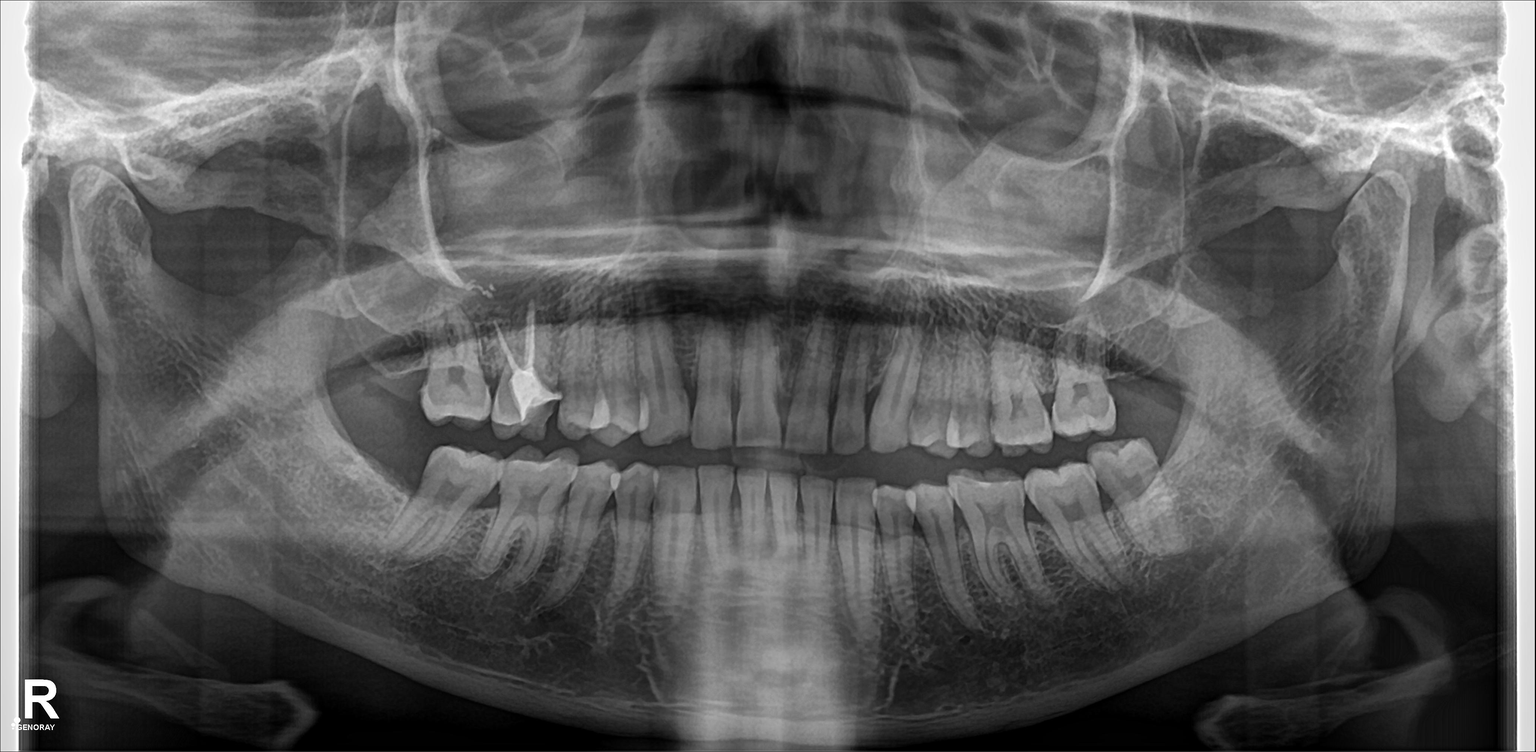Endodontically Treated Tooth: (492, 315, 553, 431)
Missing Tooth: (326, 322, 384, 426), (350, 437, 413, 526), (387, 322, 428, 423), (1112, 339, 1161, 413)
